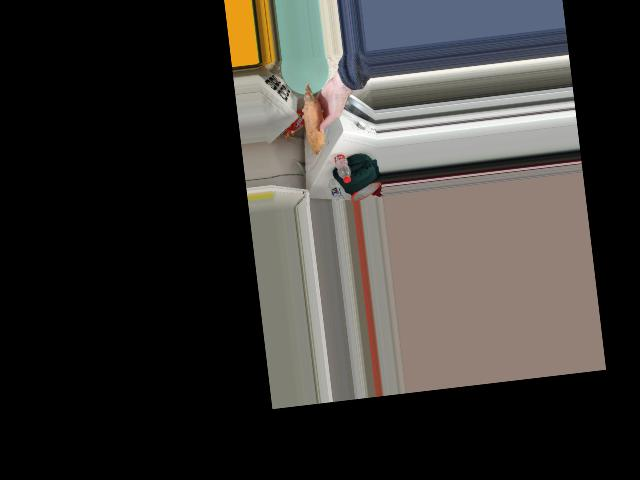sweet_potato: (302, 91, 325, 153)
